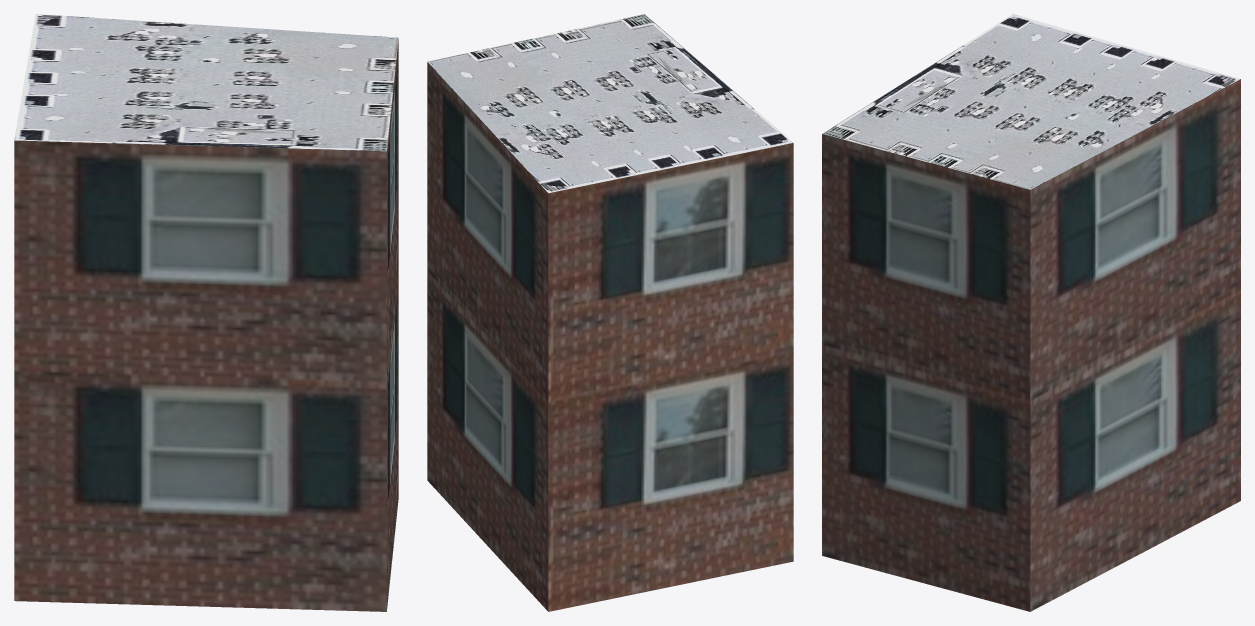
Rendered from ResTex__2224.fbx.
The picture shows the model from 3 angles, left to right: view 1: azimuth 30°, elevation 25°; view 2: azimuth 150°, elevation 25°; view 3: azimuth 270°, elevation 25°; orthographic projection. The views are drawn at different scales.
Parts seen in each view (by area): view 1: CityEngineMaterial_14_m, CityEngineMaterial_4_m; view 2: CityEngineMaterial_14_m, CityEngineMaterial_4_m; view 3: CityEngineMaterial_14_m, CityEngineMaterial_4_m.
Boxes of the visible parts, x1,y1,x2,y2 form: CityEngineMaterial_14_m: (14,39,398,611); CityEngineMaterial_4_m: (14,14,398,151); CityEngineMaterial_14_m: (427,62,793,611); CityEngineMaterial_4_m: (427,14,793,193); CityEngineMaterial_14_m: (822,79,1240,611); CityEngineMaterial_4_m: (822,14,1240,189).
Size of the model in its own units: 5.37 by 6 by 5.4.
Materials: 2 (2 with a texture image).
